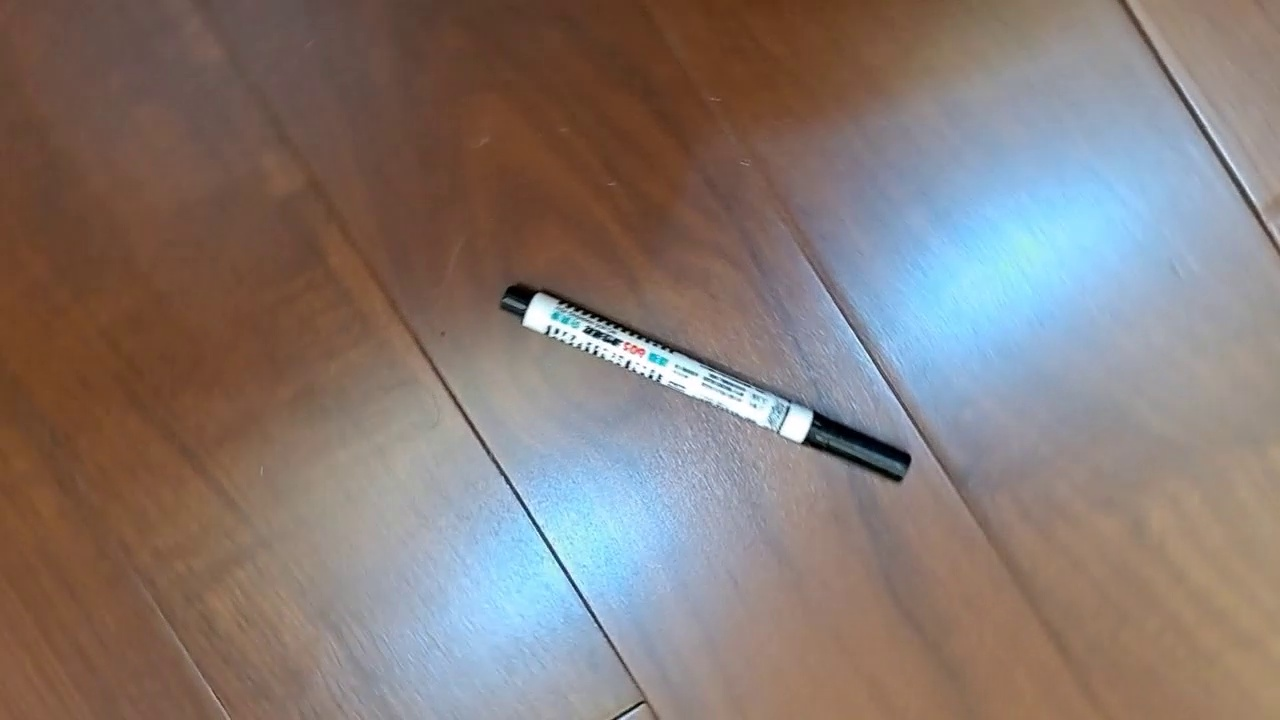pen: (498, 281, 912, 485)
